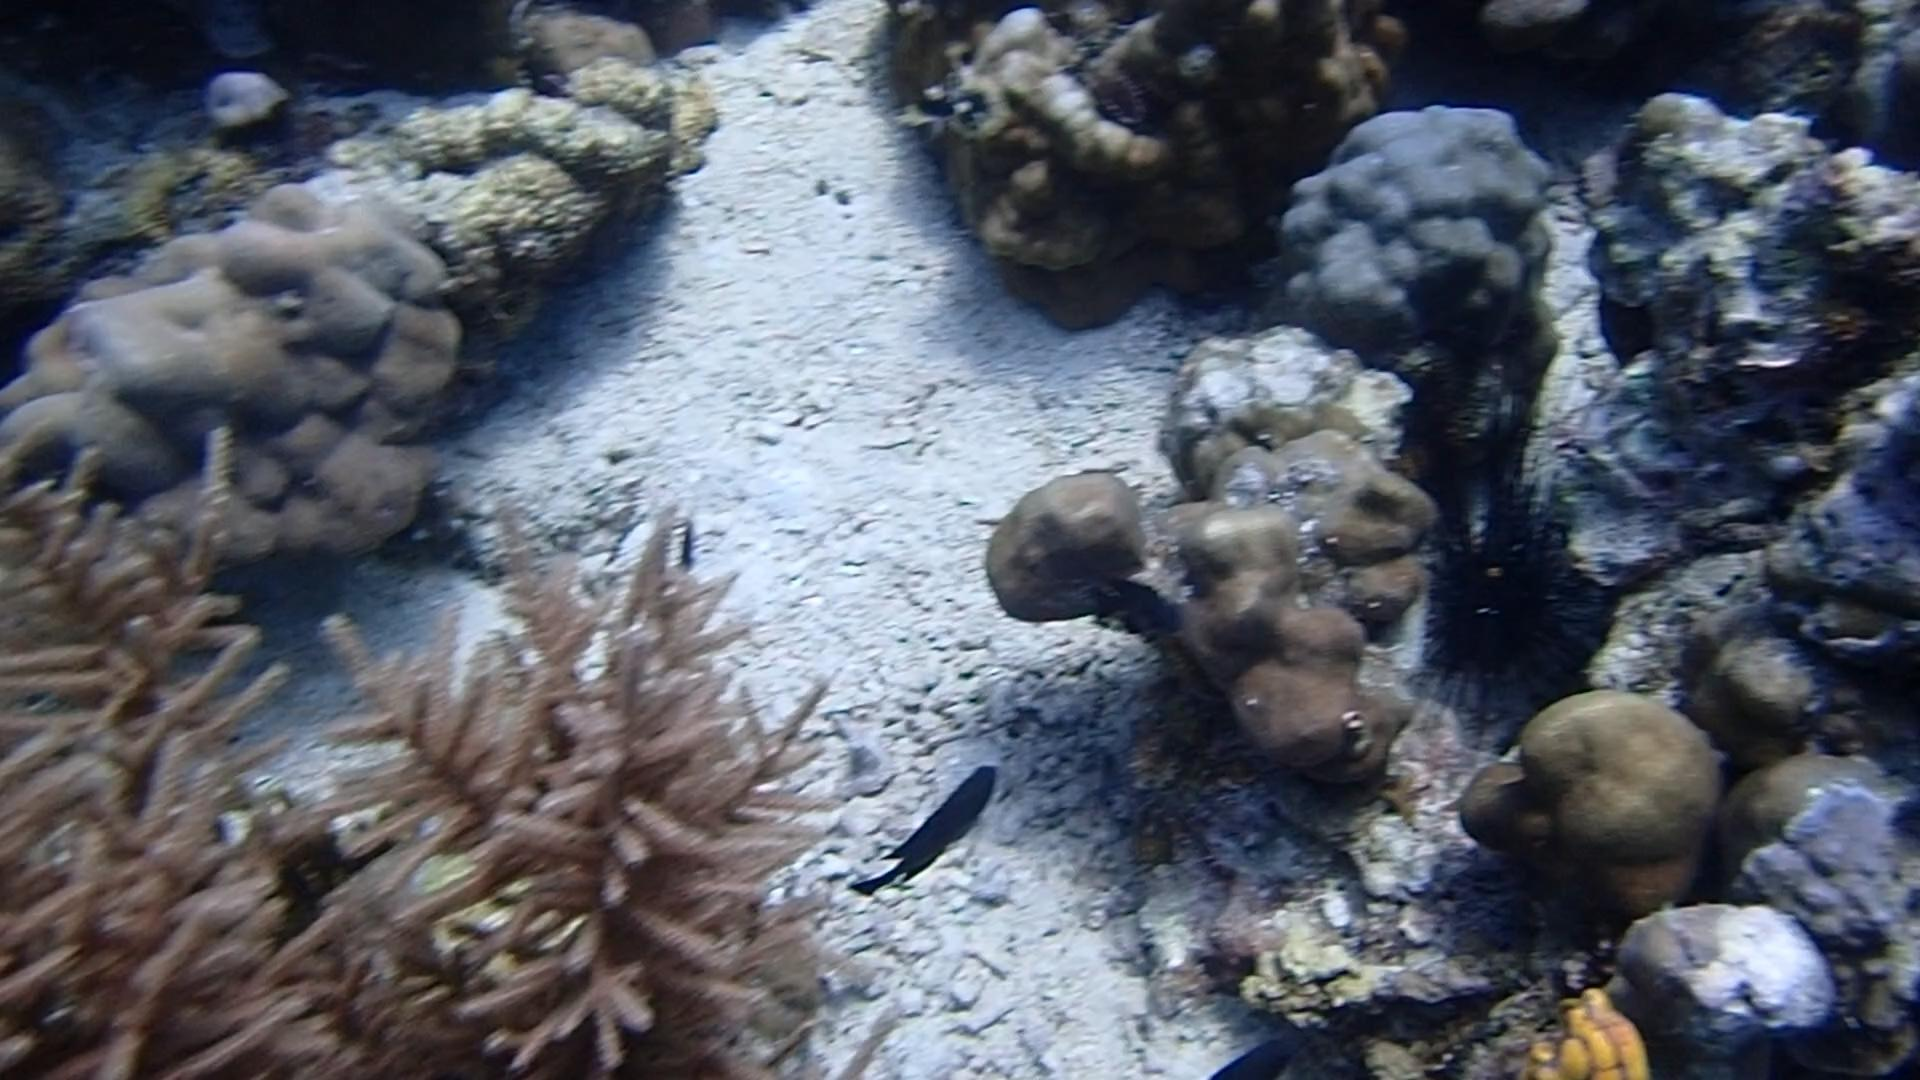Dark Fish: (841, 753, 1007, 905), (1084, 571, 1191, 651), (1204, 1030, 1296, 1080)
Yellow Tail: (878, 76, 963, 136), (671, 509, 705, 578)
